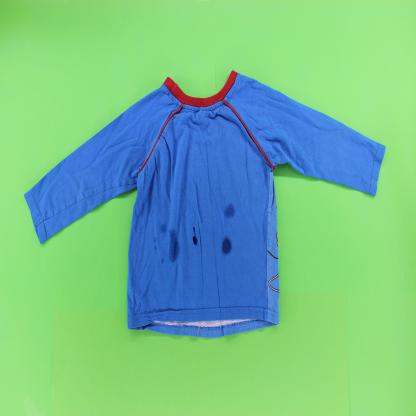stain: (167, 228, 182, 263), (220, 234, 234, 258), (223, 201, 238, 222), (191, 225, 199, 250), (160, 223, 167, 234), (160, 257, 165, 265), (153, 236, 157, 244), (154, 245, 157, 252)
